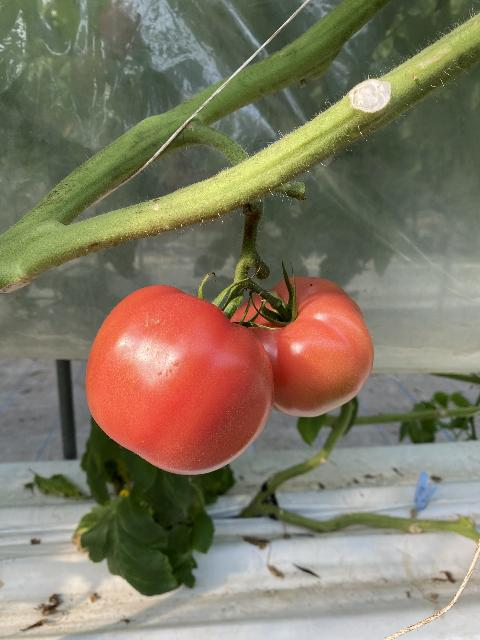b_fully_ripened: (86, 286, 275, 476), (228, 275, 373, 417)
